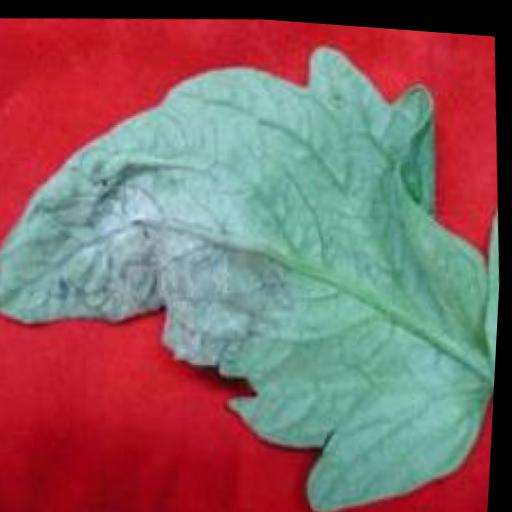Late Blight: (0, 3, 512, 512)
